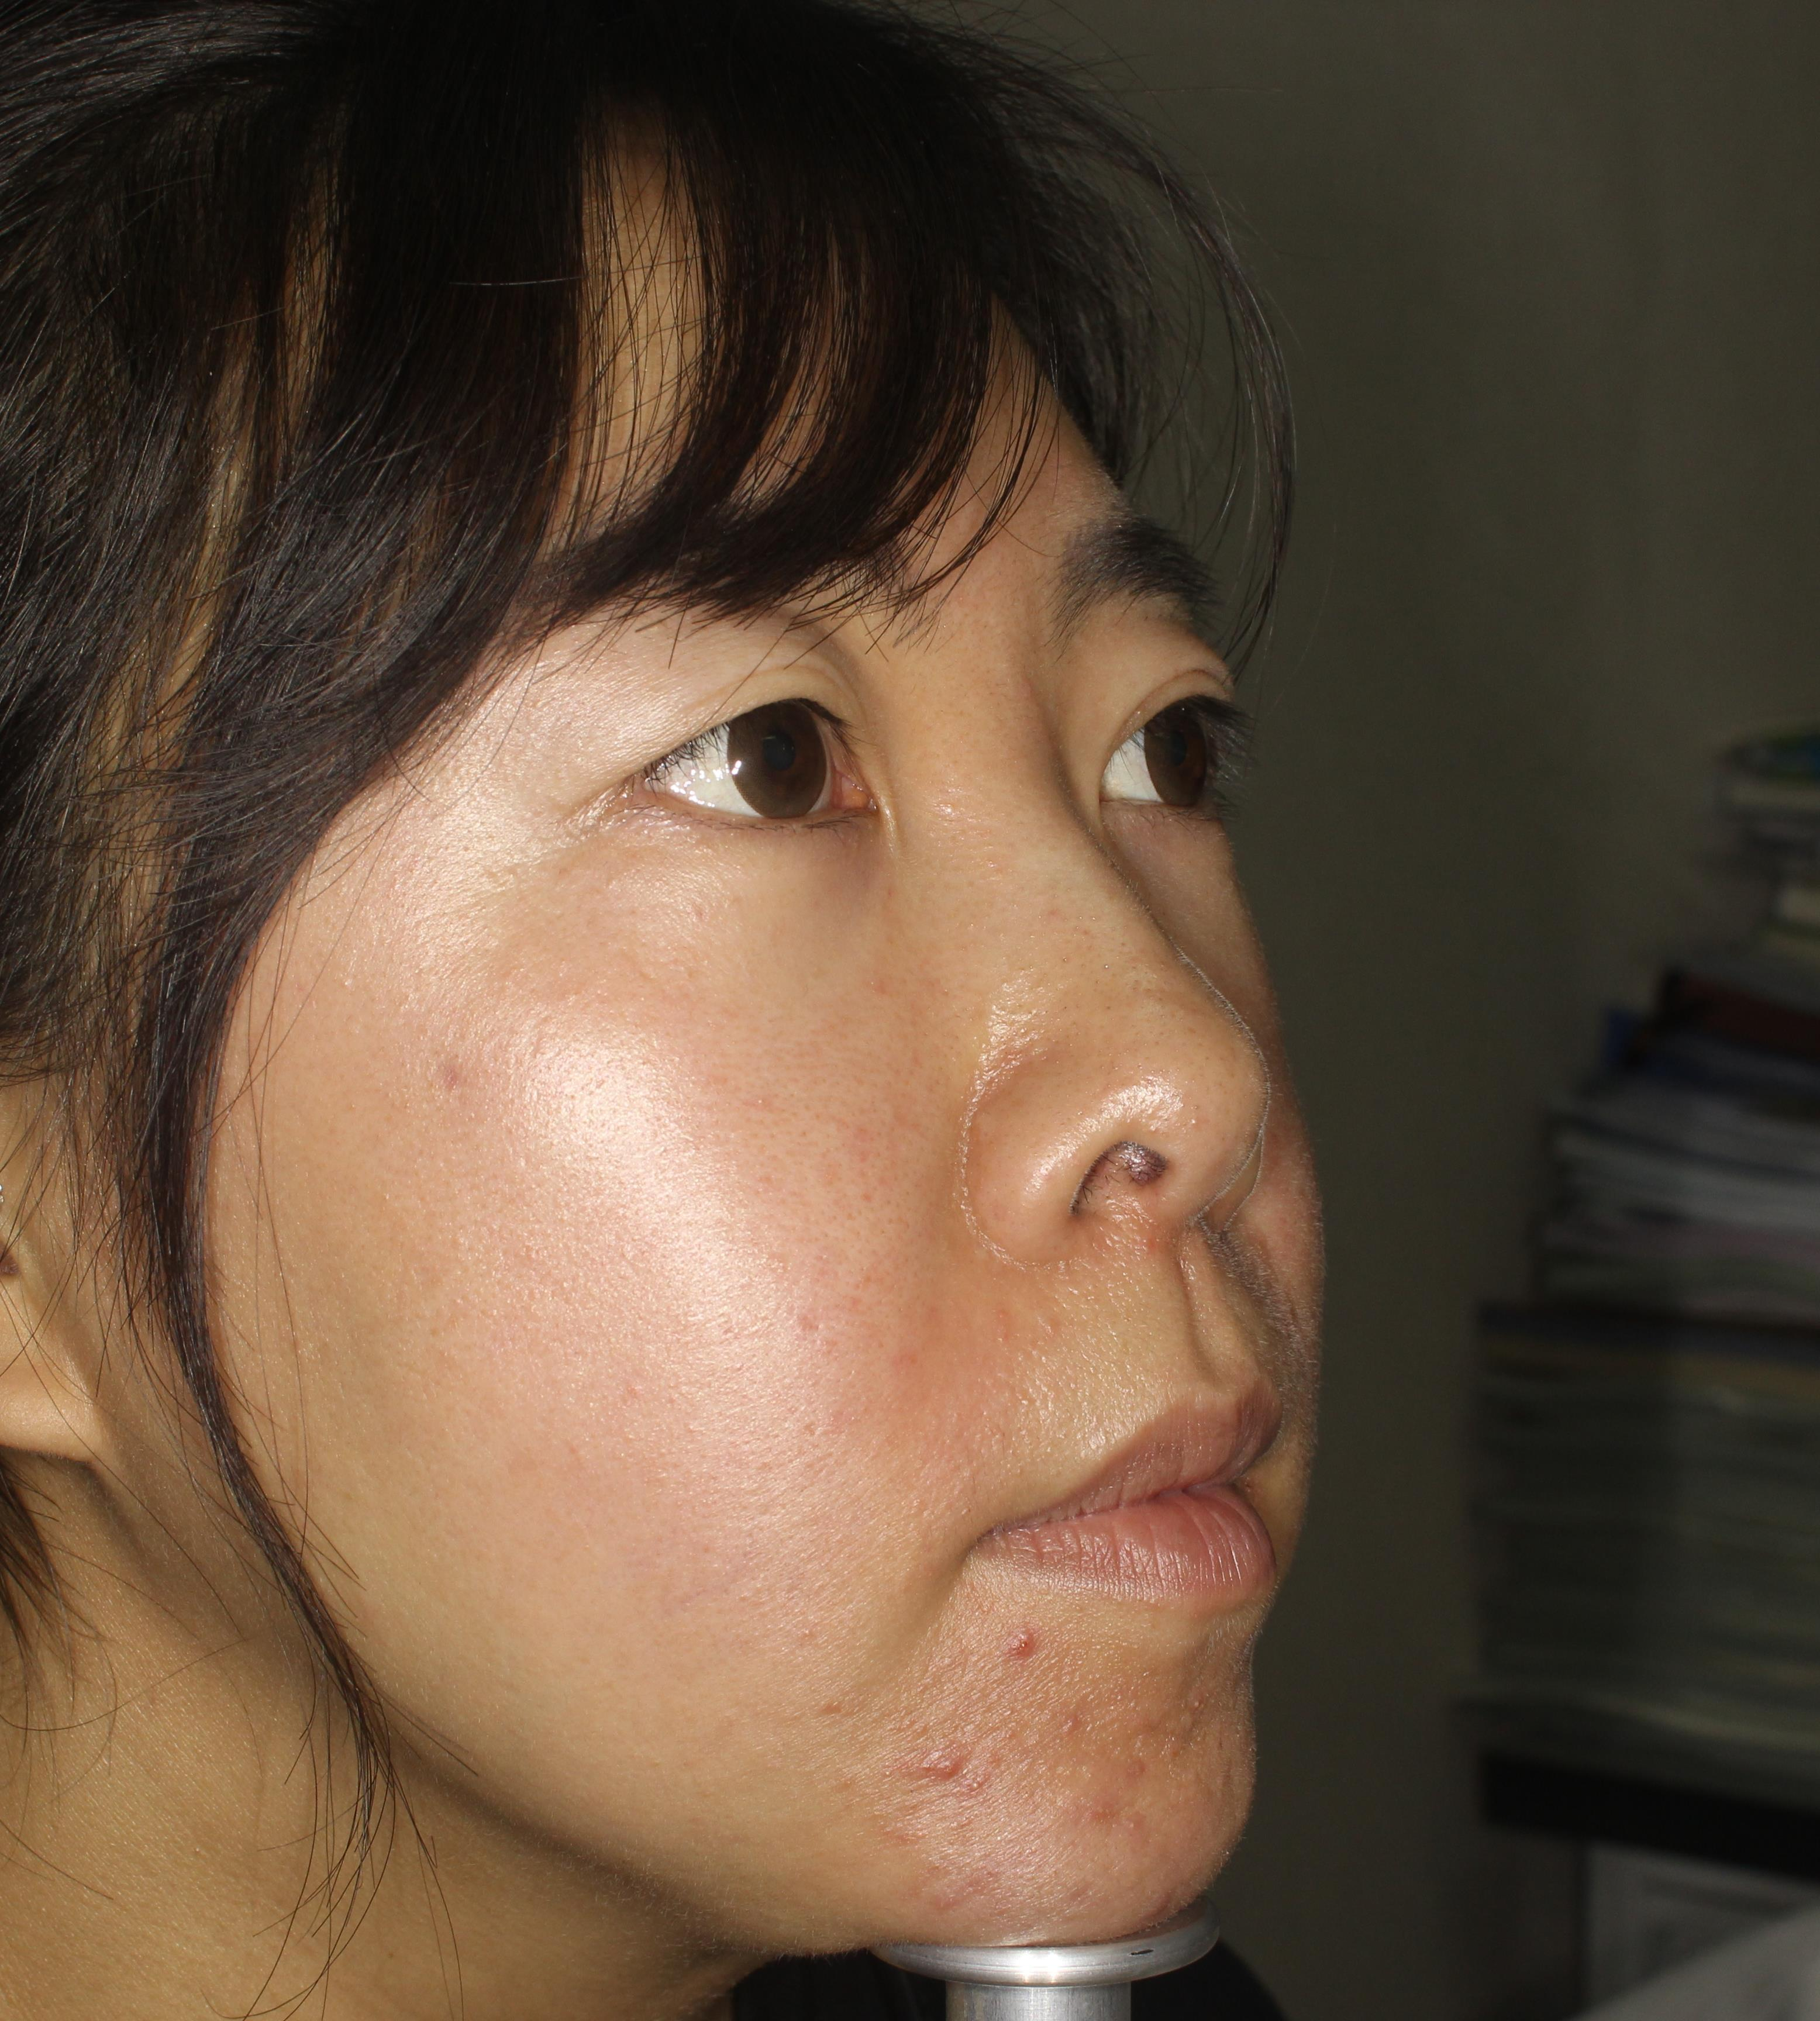fore: (880, 1733, 996, 1794), (1051, 1777, 1161, 1831)
